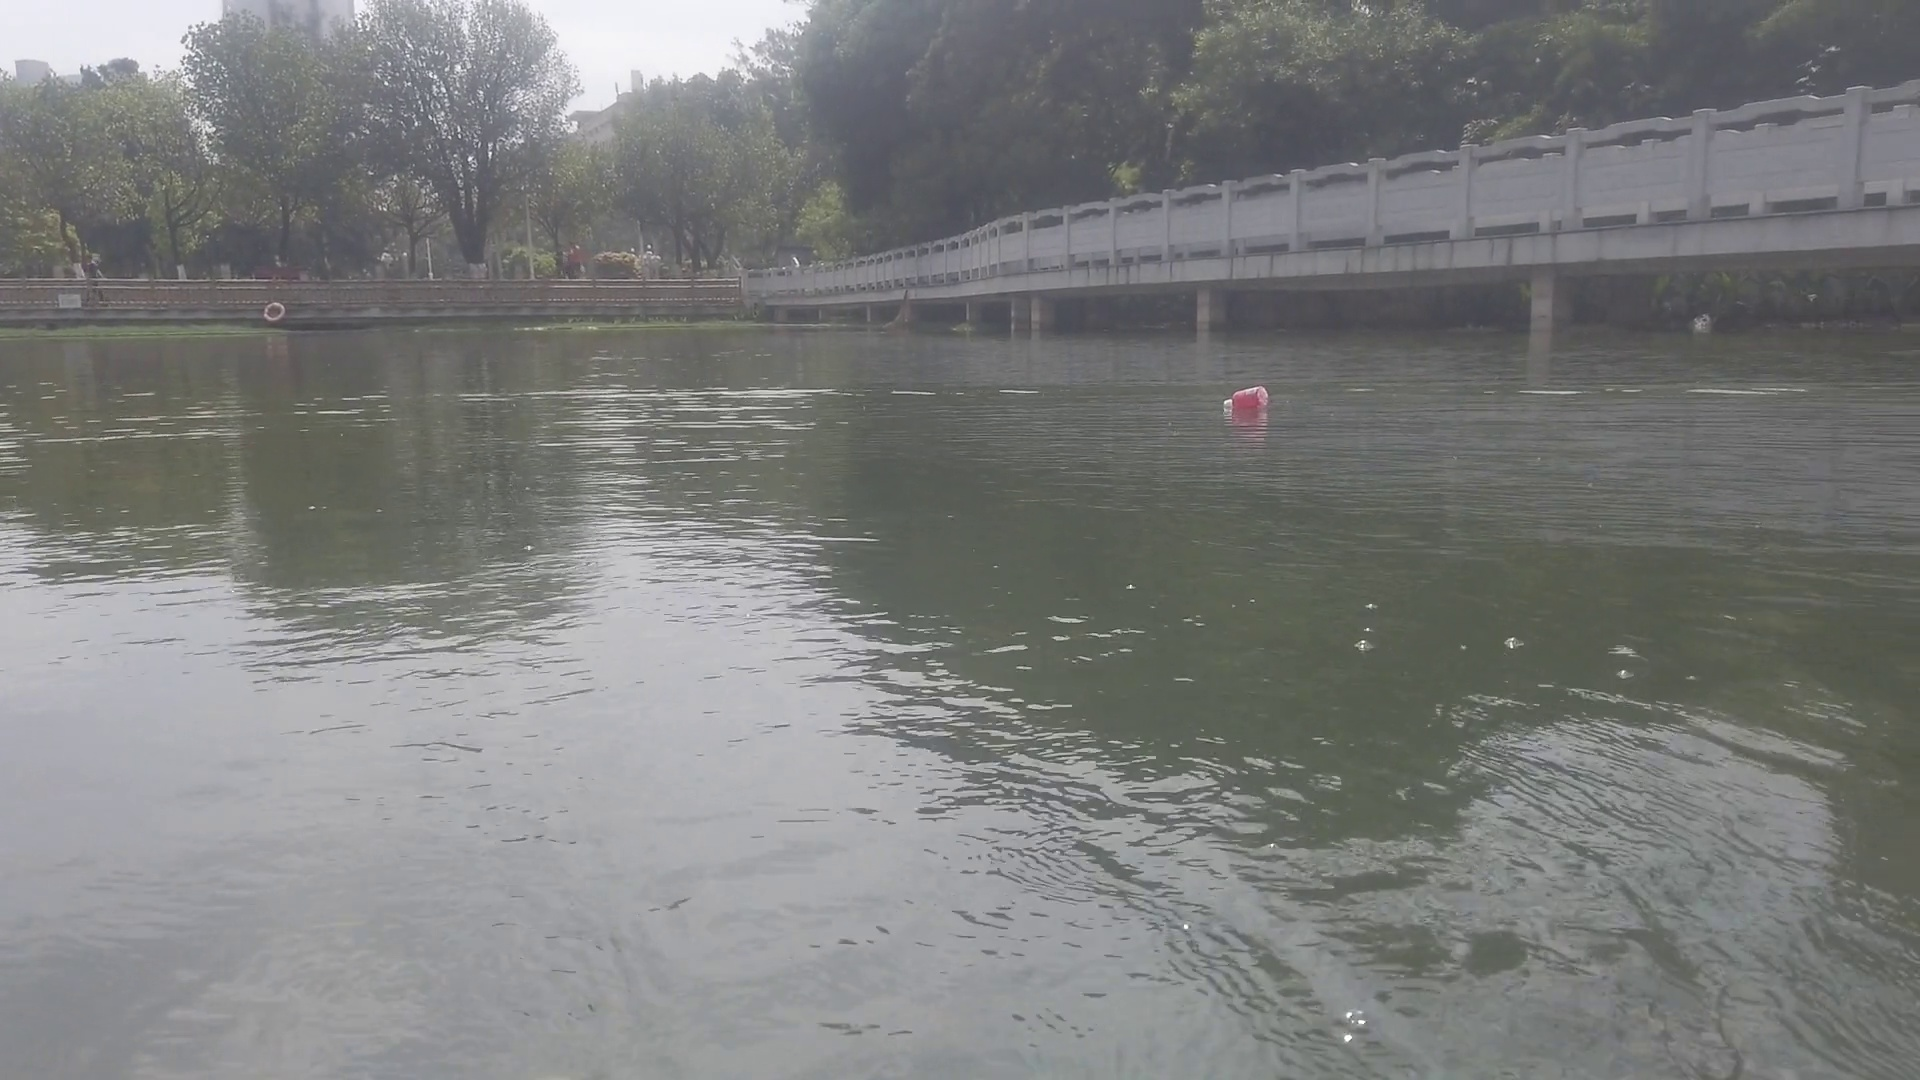bottle: (1215, 385, 1273, 407)
